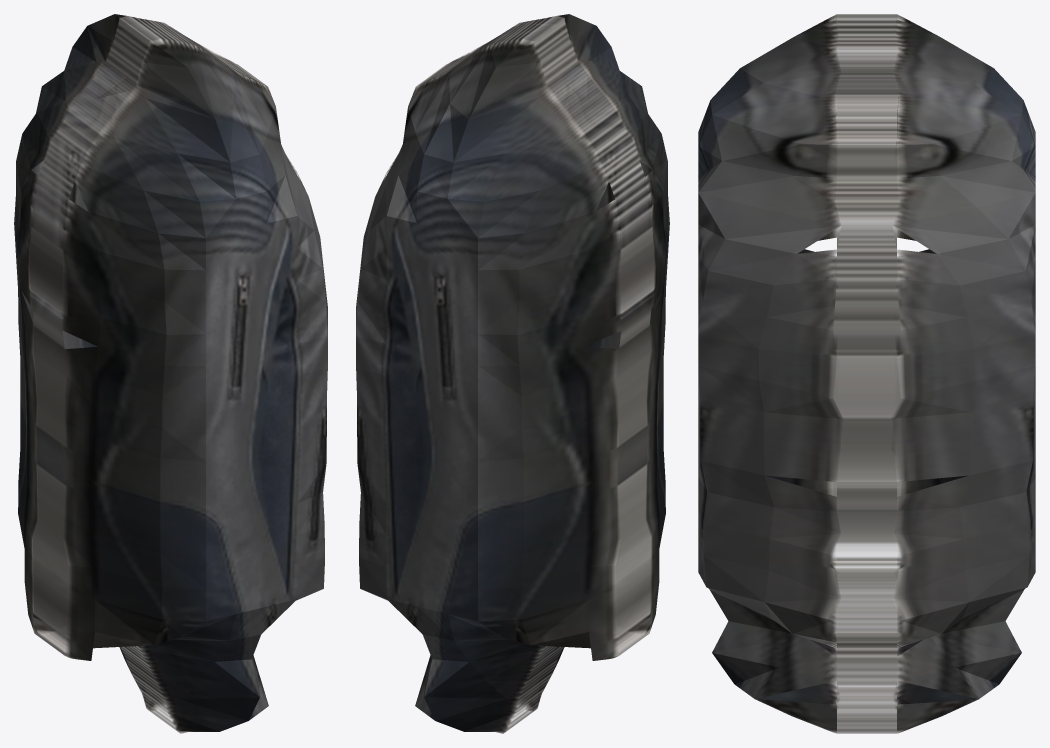
Rendered from quad-lock-vector-mesh-jacket-014.glb.
3 views of the same model, side by side, from view 1: azimuth 30°, elevation 25°; view 2: azimuth 150°, elevation 25°; view 3: azimuth 270°, elevation 25° (orthographic).
Parts seen in each view (by area): view 1: world; view 2: world; view 3: world.
Part boxes in pixels (<box>): world: <box>14,14,327,733</box>; world: <box>356,14,669,733</box>; world: <box>698,14,1035,733</box>.
Bounding box in the file's own units: 0.3769 × 1 × 0.44.
1 material, 1 textured.
